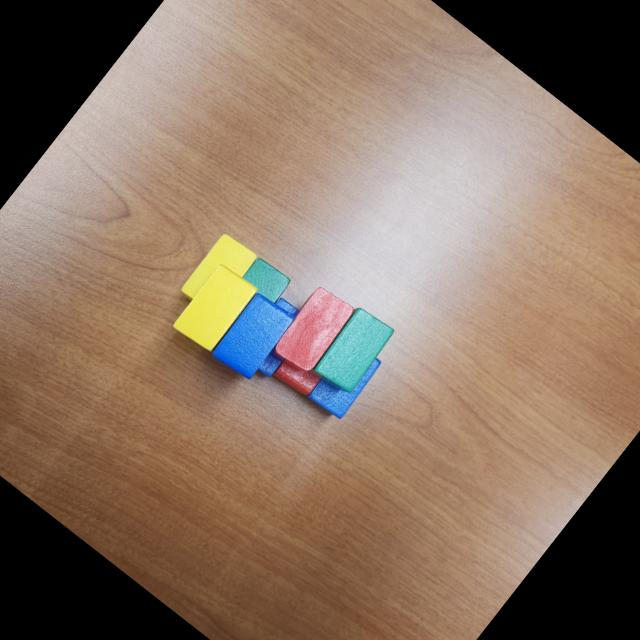blue: (207, 288, 298, 386), (304, 338, 384, 424), (234, 296, 314, 382)
green: (306, 302, 399, 402), (240, 254, 294, 306)
red: (266, 282, 359, 382), (270, 342, 330, 402)
yellow: (170, 262, 258, 356), (179, 230, 259, 316)
